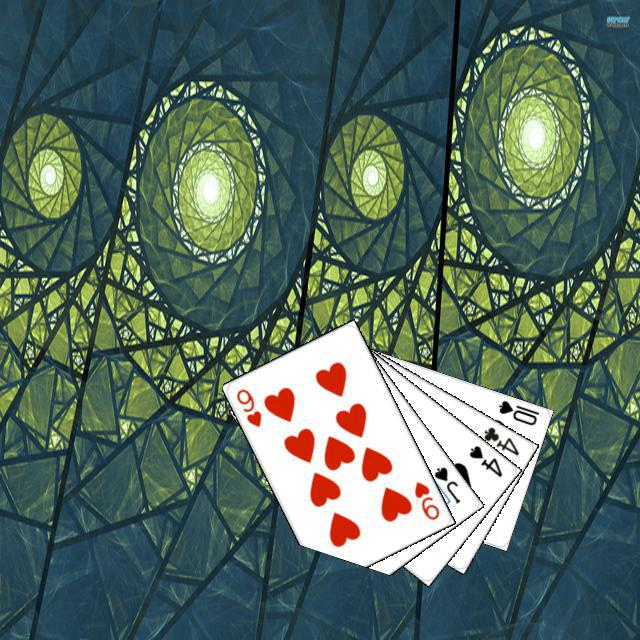10s: (493, 395, 541, 427)
4c: (479, 422, 521, 457)
4s: (464, 440, 504, 479)
9h: (409, 476, 441, 522), (231, 384, 263, 429)
Js: (429, 462, 462, 505)
